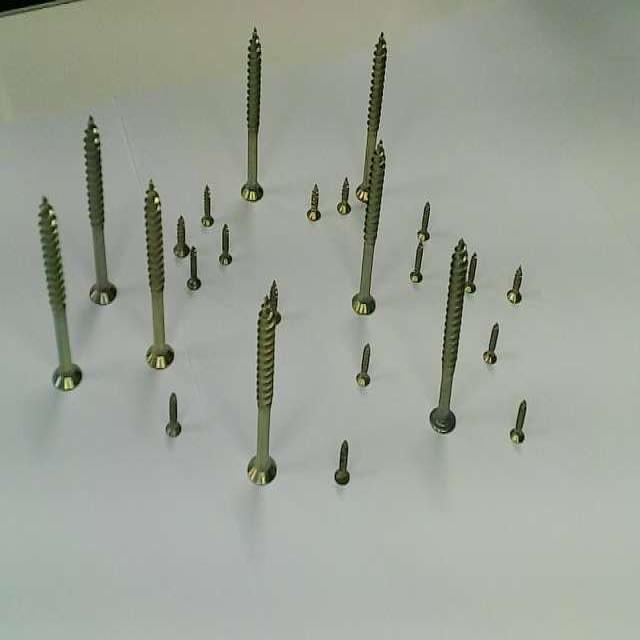Parafuso: (38, 197, 81, 389), (430, 239, 467, 432), (85, 116, 116, 304), (352, 141, 385, 313), (356, 32, 387, 201), (146, 181, 172, 368), (247, 29, 260, 181), (165, 393, 181, 436), (510, 400, 526, 443), (334, 440, 349, 484), (173, 216, 189, 257), (186, 247, 200, 289), (483, 323, 497, 363), (356, 344, 369, 385), (507, 267, 521, 303), (201, 187, 213, 227), (417, 201, 429, 241), (219, 225, 231, 264), (307, 184, 320, 220), (411, 241, 422, 281), (465, 253, 475, 292), (339, 193, 347, 212)
